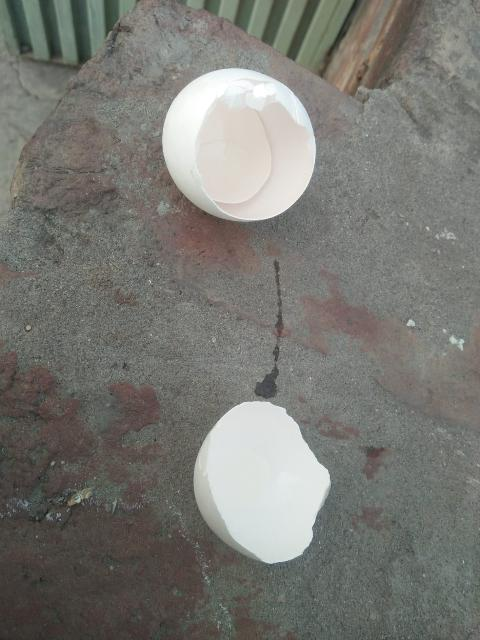Roto: (166, 65, 318, 224), (192, 400, 331, 564)
